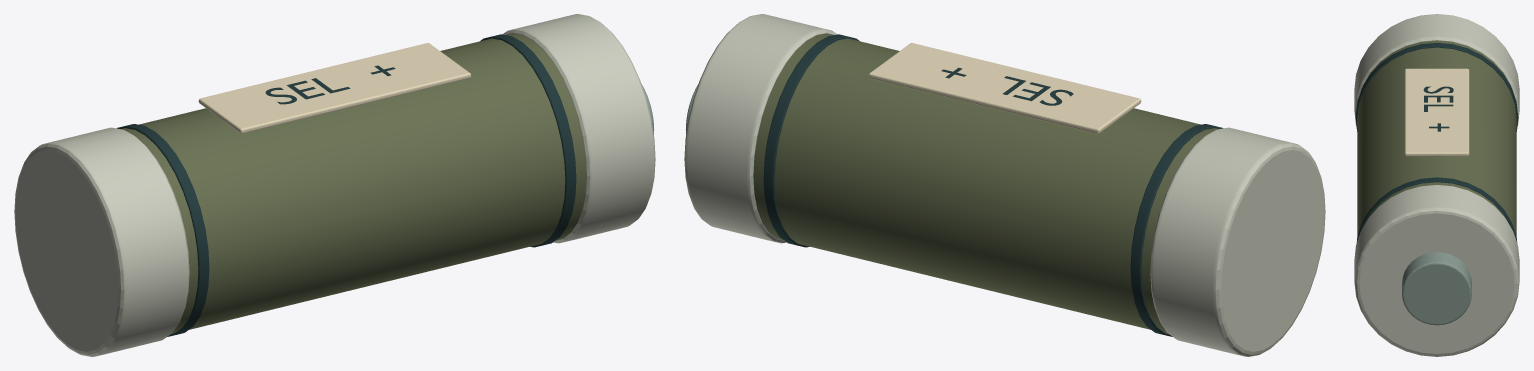
The model's file is battery.glb.
3 renders of one model, left to right at view 1: azimuth 30°, elevation 25°; view 2: azimuth 150°, elevation 25°; view 3: azimuth 270°, elevation 25°, orthographic. The views are drawn at different scales.
Parts seen in each view (by area): view 1: battery; view 2: battery; view 3: battery.
Boxes of the visible parts, bbox=[...] form: battery: bbox=[14, 14, 655, 356]; battery: bbox=[684, 14, 1325, 356]; battery: bbox=[1354, 14, 1519, 356].
Bounding box in the file's own units: 0.055 × 0.0187 × 0.0185.
